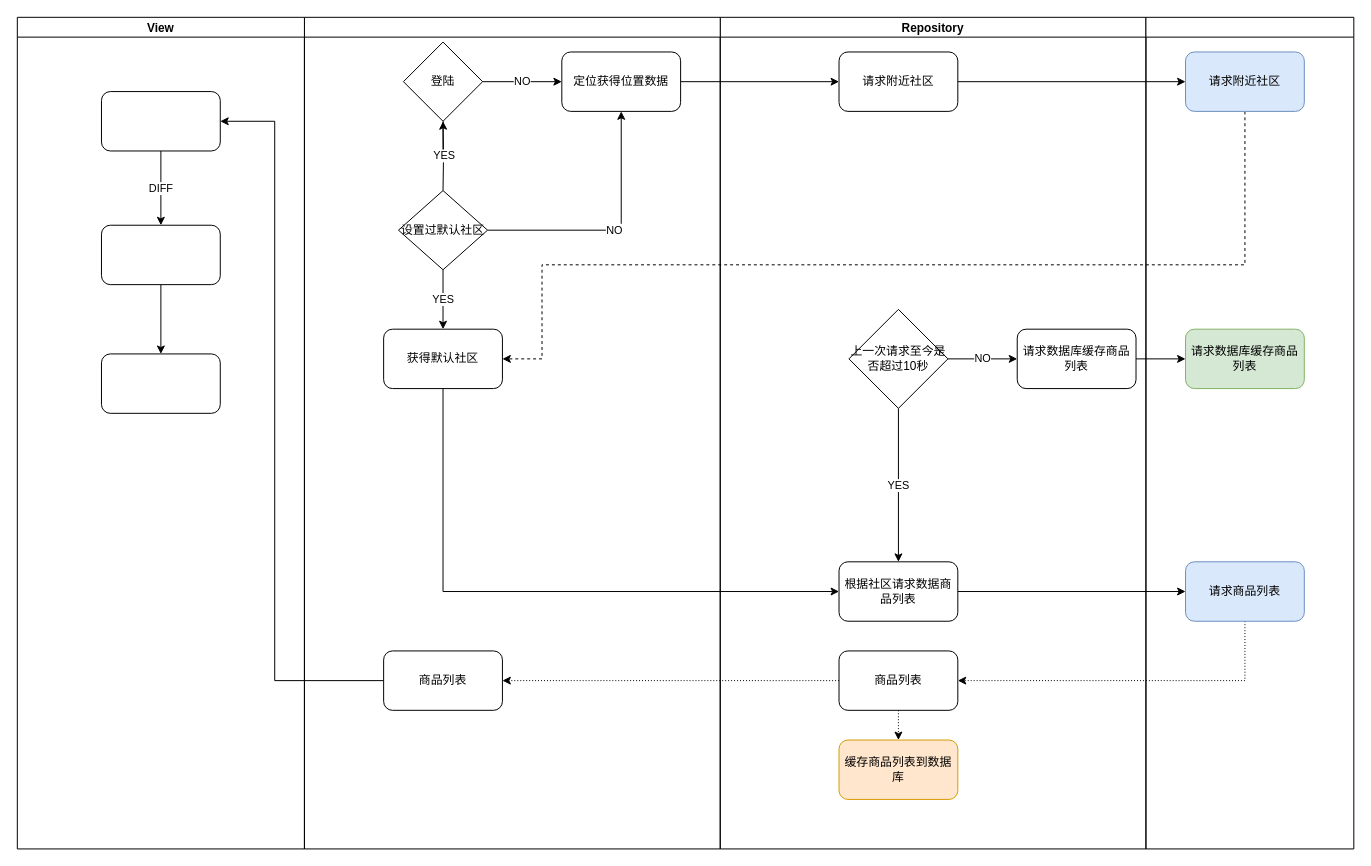
This 1371x866 diagram has some shape labels left out. The shapes that lost their labels are listed below. From the top down, each one's centre as x and y in pixels, then its label:
At [160,121]: "视图层商品列表缓存数据".
At [160,254]: "更新数据，产生视图更新状态".
At [160,383]: "根据状态更新视图".
At [511,432]: "ViewModel".
At [1249,432]: "Model".
